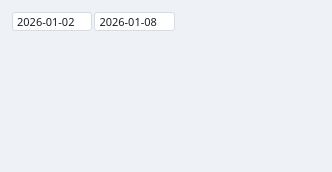
Test: FilterControl › marks text that is not YYYY-MM-DD and leaves the filter alone
Replace the text in the field named "From Date" with "01/05/2026": (52, 22) [12,12,92,31]
Then press Enter
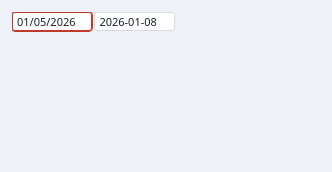
Check: the field named "From Date" is marked as invalid, box [12,12,92,31]
Check: the field named "From Date" has attribute title="Use YYYY-MM-DD or a date expression such as T-1bd", box [12,12,92,31]
